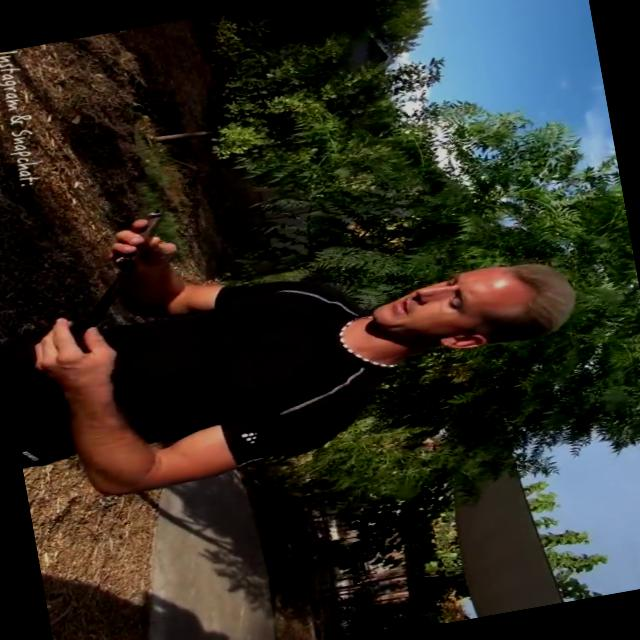knife: (45, 204, 213, 346)
